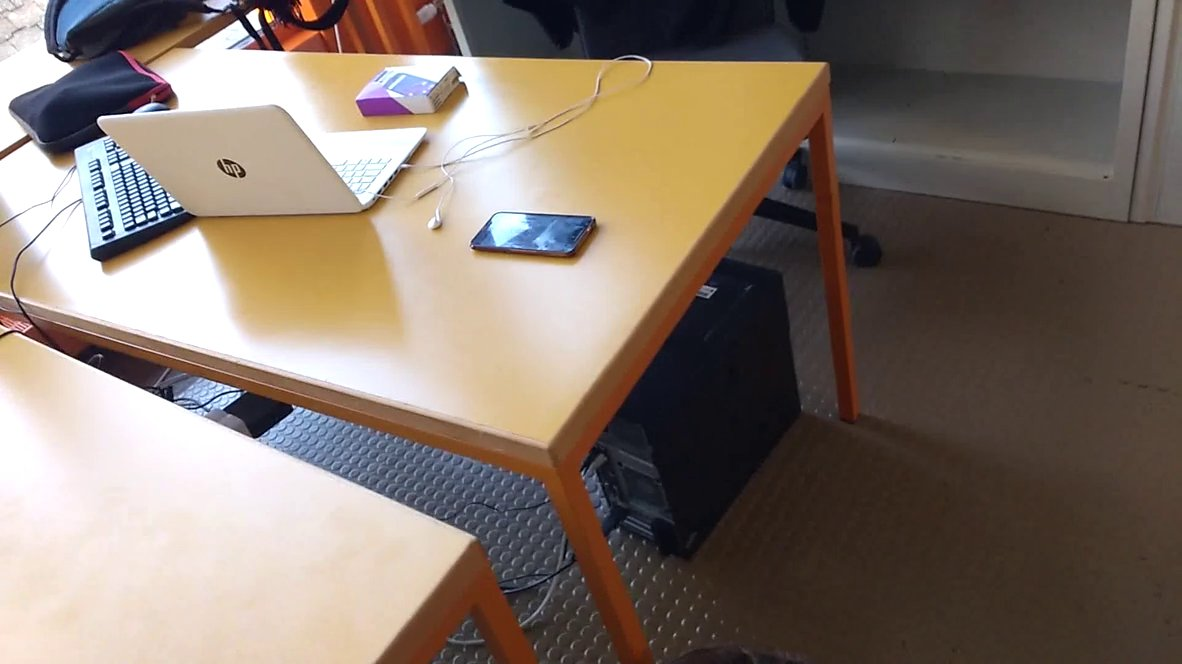laptop: (96, 100, 439, 228)
phone: (464, 204, 614, 271)
